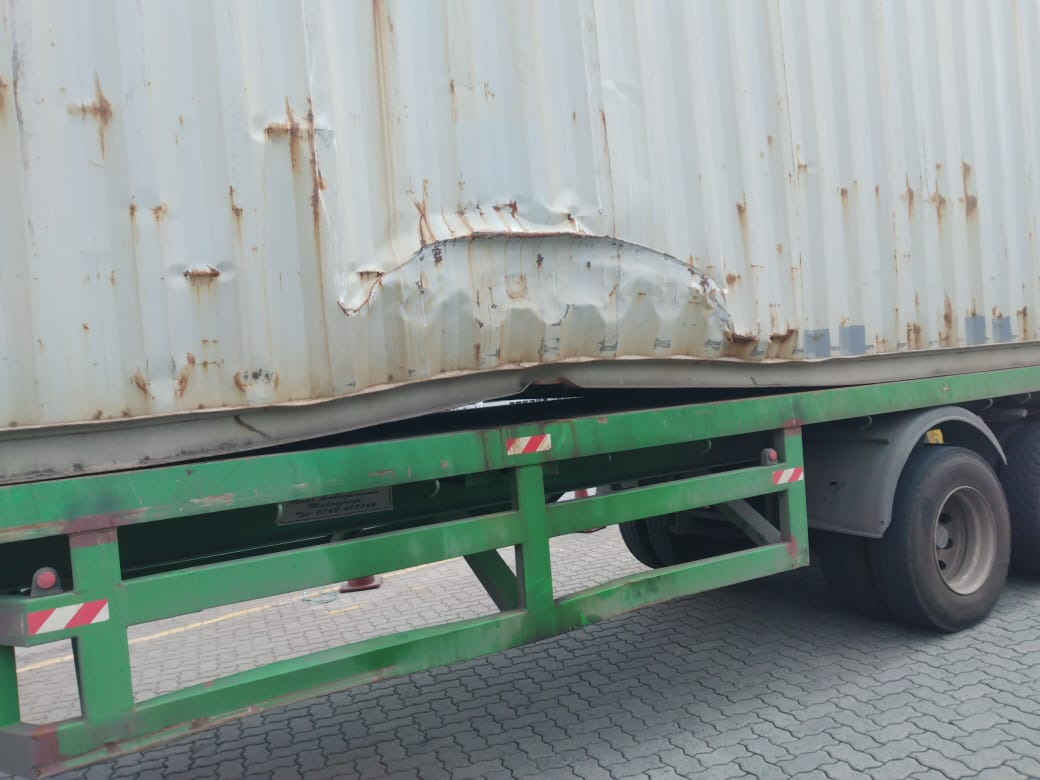bulged: (362, 204, 735, 317), (733, 327, 816, 352)
dented: (244, 117, 350, 160), (165, 256, 245, 298)
rust: (887, 295, 1034, 346), (896, 160, 980, 220)
